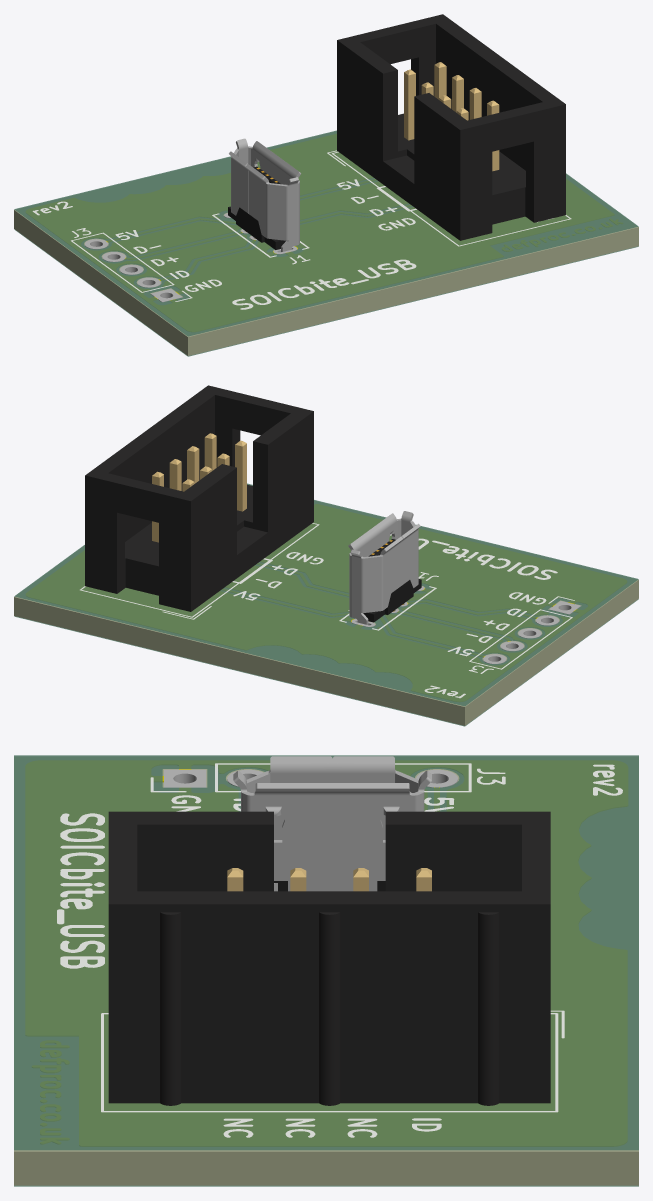
File: board.glb
The picture shows the model from 3 angles, top to bottom: view 1: azimuth 30°, elevation 25°; view 2: azimuth 150°, elevation 25°; view 3: azimuth 270°, elevation 25°; orthographic projection. The views are drawn at different scales.
Parts seen in each view (by area): view 1: board_soldermask (×2), IDC_Header_2x04_P254mm_Vertical, board_copper, board_PCB, 614105150721_Shielding, board_silkscreen, board_pad, 614105150721_Housing; view 2: board_soldermask (×2), board_copper, IDC_Header_2x04_P254mm_Vertical, board_PCB, 614105150721_Shielding, board_silkscreen, board_pad, 614105150721_Housing; view 3: IDC_Header_2x04_P254mm_Vertical, board_soldermask (×2), board_copper, board_PCB, 614105150721_Shielding, board_silkscreen, board_pad.
Part boxes in pixels (box(x1,y1,x2,y2)): board_soldermask (×2): box(14, 130, 638, 356); IDC_Header_2x04_P254mm_Vertical: box(337, 14, 565, 240); board_copper: box(26, 134, 622, 331); board_PCB: box(14, 132, 638, 355); 614105150721_Shielding: box(229, 138, 300, 251); board_silkscreen: box(32, 150, 571, 309); board_pad: box(84, 213, 297, 302); 614105150721_Housing: box(228, 166, 285, 249); board_soldermask (×2): box(14, 483, 638, 726); board_copper: box(26, 504, 626, 701); IDC_Header_2x04_P254mm_Vertical: box(85, 385, 313, 611); board_PCB: box(14, 501, 638, 725); 614105150721_Shielding: box(348, 511, 420, 624); board_silkscreen: box(80, 523, 574, 698); board_pad: box(351, 586, 580, 663); 614105150721_Housing: box(363, 539, 421, 622); IDC_Header_2x04_P254mm_Vertical: box(108, 811, 550, 1105); board_soldermask (×2): box(14, 755, 638, 1186); board_copper: box(26, 761, 627, 1146); board_PCB: box(14, 757, 638, 1185); 614105150721_Shielding: box(233, 756, 431, 891); board_silkscreen: box(57, 763, 622, 1137); board_pad: box(164, 769, 458, 787).
Bounding box in the file's own units: 0.0377 × 0.0121 × 0.0252.
